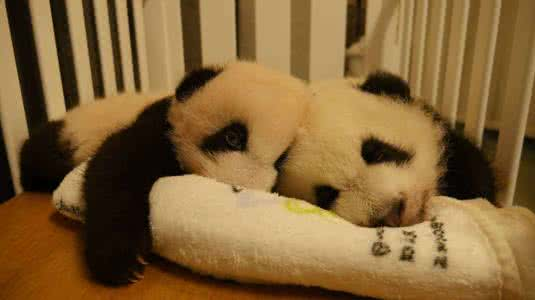panda: (20, 49, 301, 289), (301, 55, 503, 231)
